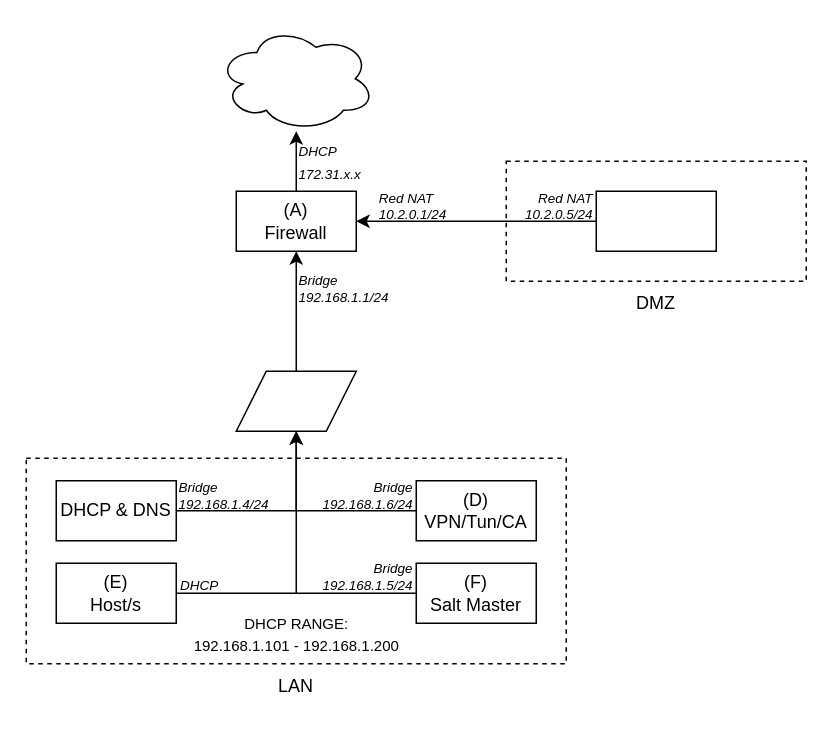
This 833x735 diagram has some shape labels left out. The centre of each missing label's shape, as x and y in pixels:
"(B) Web & FTP" belongs at (655,220).
"Servidor Colegio" belongs at (295,78).
"SWITCH" belongs at (295,400).
